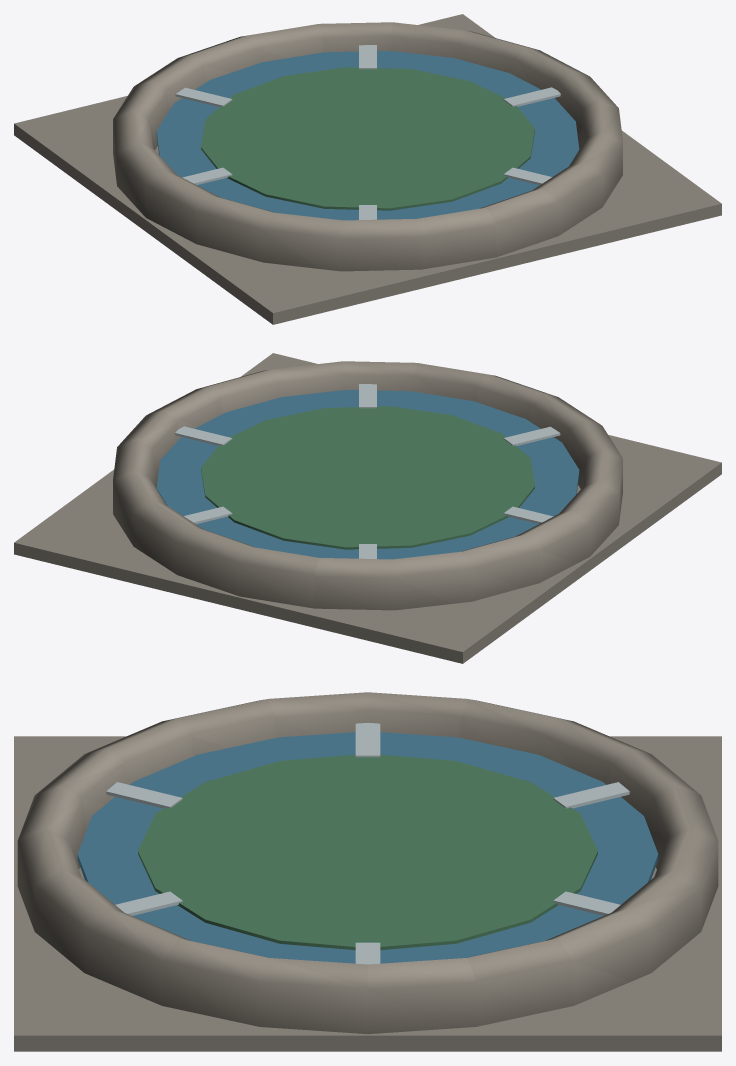
File: reflecting_pool_tile_01.glb
The picture shows the model from 3 angles, top to bottom: view 1: azimuth 30°, elevation 25°; view 2: azimuth 150°, elevation 25°; view 3: azimuth 270°, elevation 25°; orthographic projection. The views are drawn at different scales.
Parts seen in each view (by area): view 1: reflecting_pool_tile_01; view 2: reflecting_pool_tile_01; view 3: reflecting_pool_tile_01.
Boxes of the visible parts, x1,y1,x2,y2 form: reflecting_pool_tile_01: (14, 14, 721, 324); reflecting_pool_tile_01: (14, 353, 721, 663); reflecting_pool_tile_01: (14, 692, 721, 1051).
Bounding box in the file's own units: 4 × 0.46 × 4.
